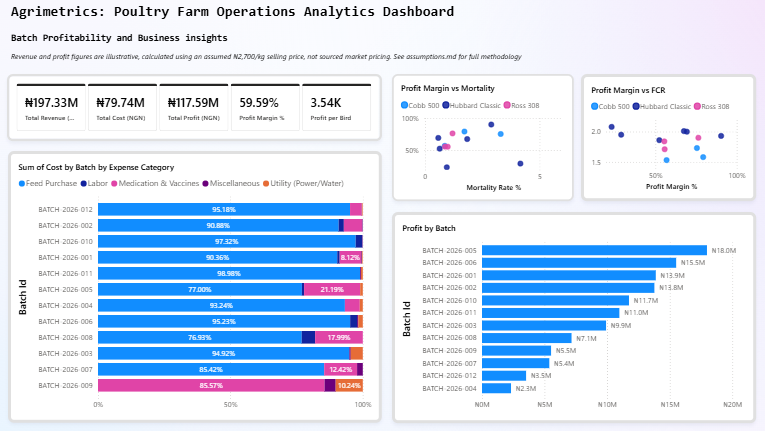

The dashboard page shown, as its layout file describes it:
{"tool":"powerbi","page":{"name":"Batch Profitability Analysis","canvas":[1280,720],"ordinal":2},"visuals":[{"type":"clusteredBarChart","title":"Profit by Batch","fields":{"Y":["_Measures.Total Profit (NGN)"],"Category":["batches.batch_id"]},"box":[656.9,353.4,606.9,351.7],"z":0},{"type":"scatterChart","title":"Profit Margin vs FCR","fields":{"X":["_Measures.Profit Margin %"],"Y":["Avg(batch_summary_metrics.fcr)"],"Series":["batches.breed_type"],"Category":["batch_summary_metrics.batch_id"]},"box":[971.7,123.3,291.7,211.7],"z":1000},{"type":"hundredPercentStackedBarChart","title":"Sum of Cost by Batch by Expense Category","fields":{"Category":["batches.batch_id"],"Series":["financials.expense_category"],"Y":["Sum(financials.cost_naira)"]},"box":[16.7,251.7,623.3,453.3],"z":2000},{"type":"cardVisual","fields":{"Data":["_Measures.Total Revenue (NGN)","_Measures.Total Cost (NGN)","_Measures.Total Profit (NGN)","_Measures.Profit Margin %","_Measures.Profit per Bird"]},"box":[15,123.3,625,111.7],"z":3000},{"type":"textbox","box":[16,0,768,48],"z":4000},{"type":"textbox","box":[16,48,432,32],"z":5000},{"type":"textbox","box":[16,80,880,32],"z":6000},{"type":"scatterChart","title":"Profit Margin vs Mortality","fields":{"X":["Sum(batch_summary_metrics.mortality_rate_pct)"],"Y":["_Measures.Profit Margin %"],"Series":["batches.breed_type"],"Category":["batch_summary_metrics.batch_id"]},"box":[656.7,123.3,303.3,211.7],"z":7000}]}

Visuals, with their boxes in screenshot pixels (x1, y1, x2, y2), scaled from the page's 1280x720 canvas onto the 765x431 screenshot:
"Profit by Batch" clusteredBarChart: bbox=(393, 212, 755, 422)
"Profit Margin vs FCR" scatterChart: bbox=(581, 74, 755, 201)
"Sum of Cost by Batch by Expense Category" hundredPercentStackedBarChart: bbox=(10, 151, 382, 422)
cardVisual - _Measures.Total Revenue (NGN) x _Measures.Total Cost (NGN): bbox=(9, 74, 382, 141)
textbox: bbox=(10, 0, 469, 29)
textbox: bbox=(10, 29, 268, 48)
textbox: bbox=(10, 48, 536, 67)
"Profit Margin vs Mortality" scatterChart: bbox=(392, 74, 574, 201)
